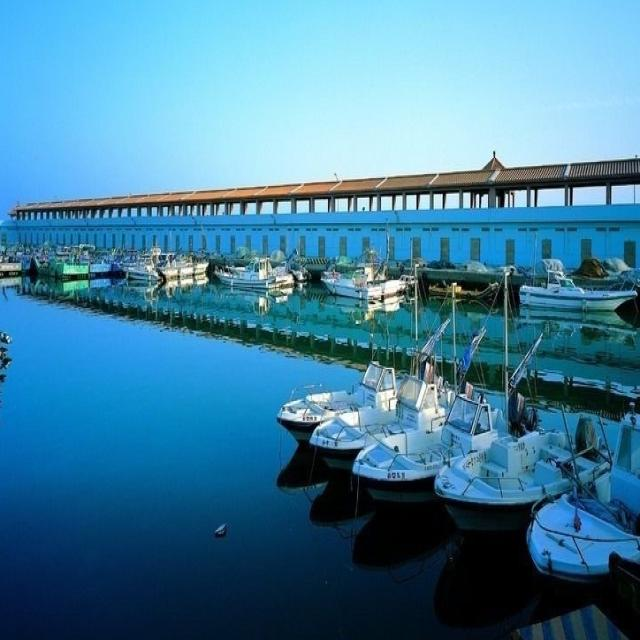houseboat: (522, 413, 640, 591), (350, 389, 498, 519), (434, 400, 584, 528), (299, 369, 458, 487), (264, 357, 386, 443), (522, 258, 636, 311), (332, 253, 413, 314), (226, 256, 294, 302), (138, 255, 208, 291)
